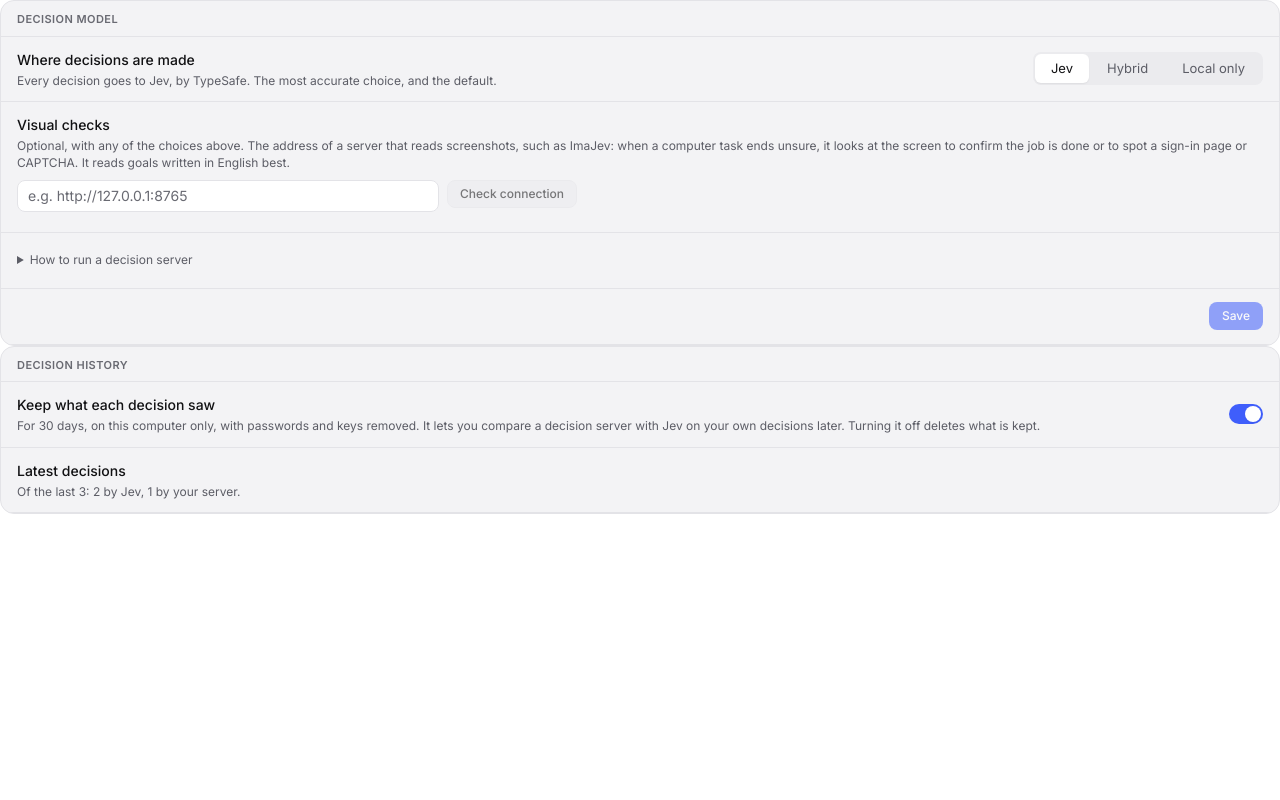
Test case: Settings > Jev > Decision model (D-037) › won't save Local only until the server passes the check
This screenshot has width=1280, height=800.
Click the radio button labelled "Local only" at (1214, 69), box [1166, 54, 1261, 83]
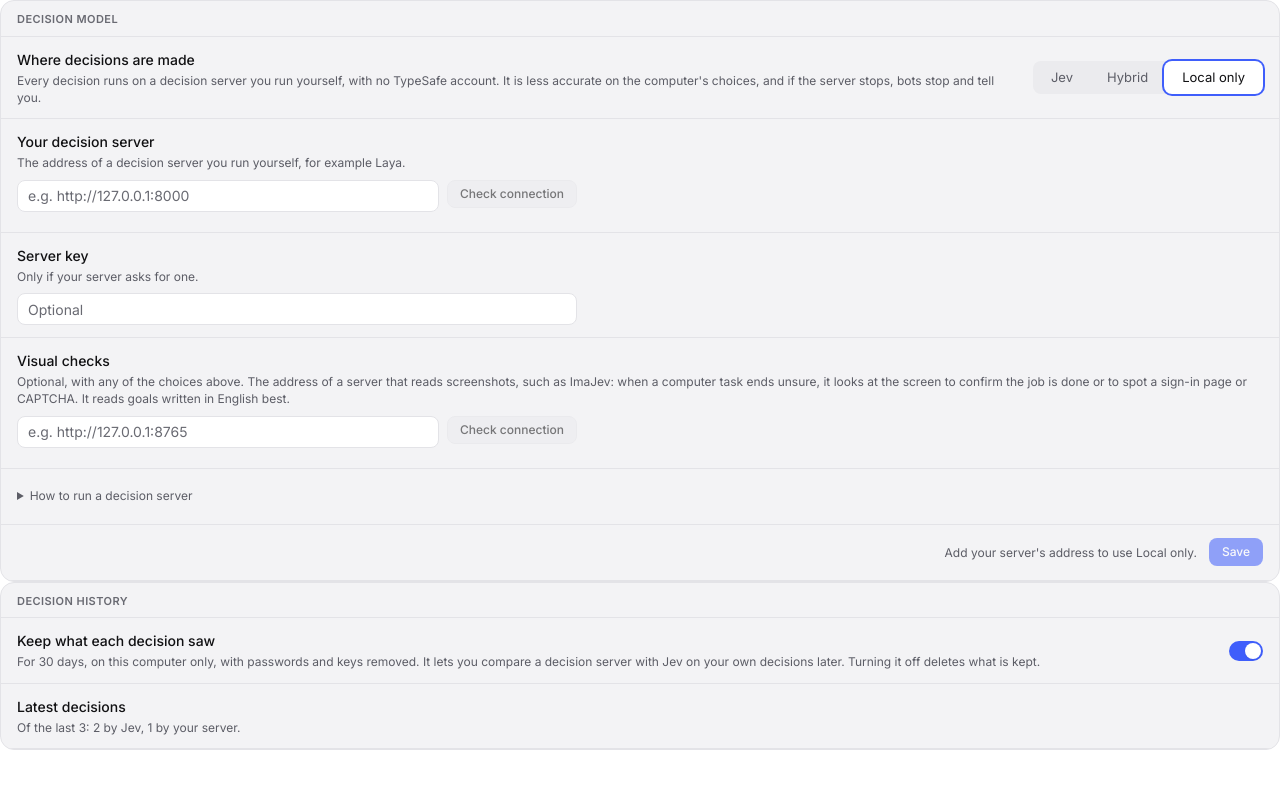
Type "http://127.0.0.1:8000" into the field labelled "Your decision server" at (228, 196), box [17, 180, 439, 212]
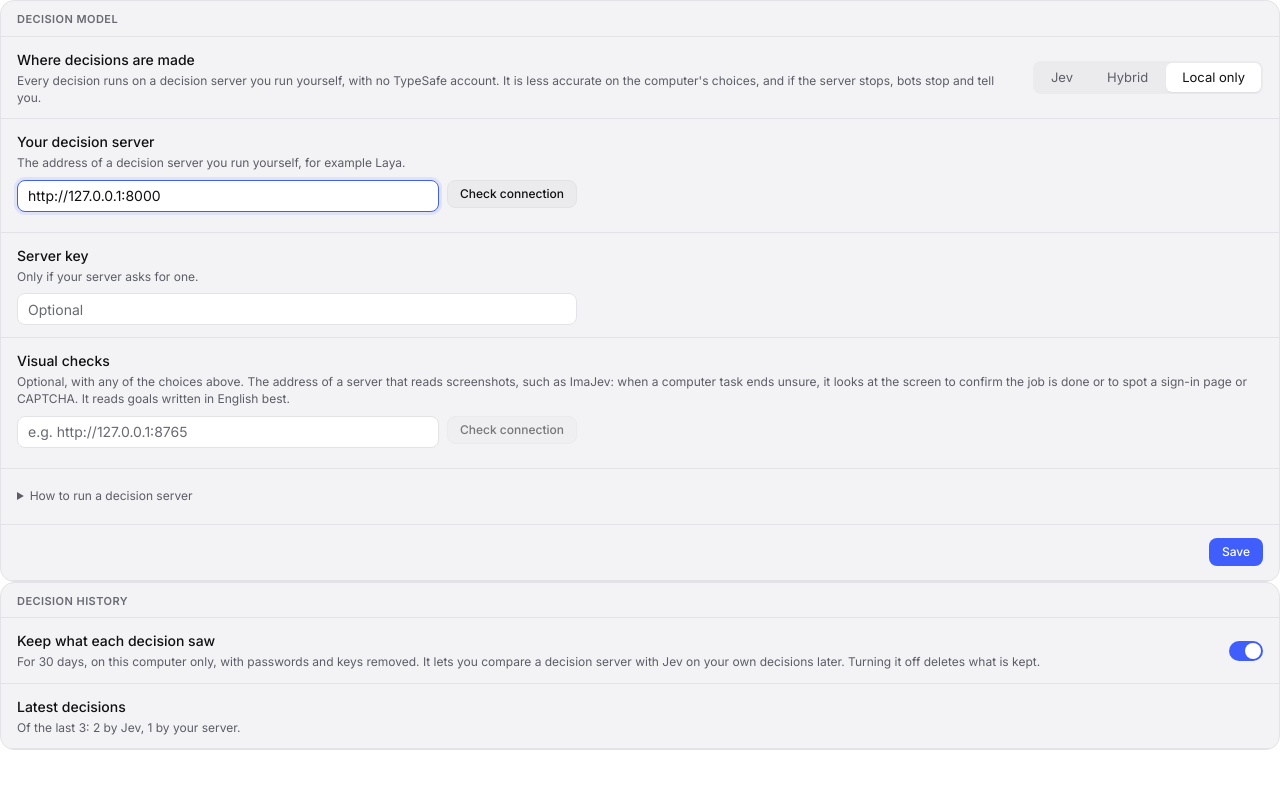
Click the button with aria-label "Save decision model" at (1236, 552), box [1209, 538, 1263, 566]
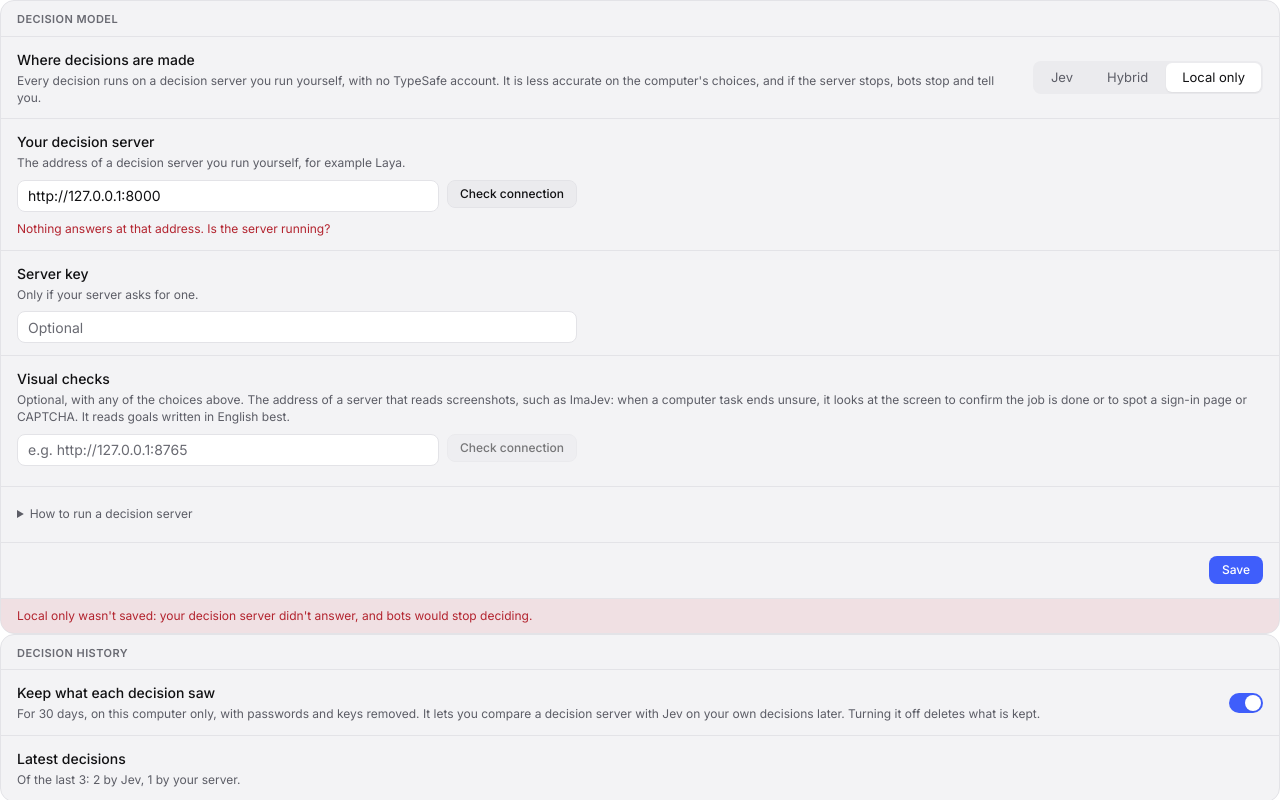
Now the text "Local only wasn't saved" is shown, box [17, 608, 532, 623]
